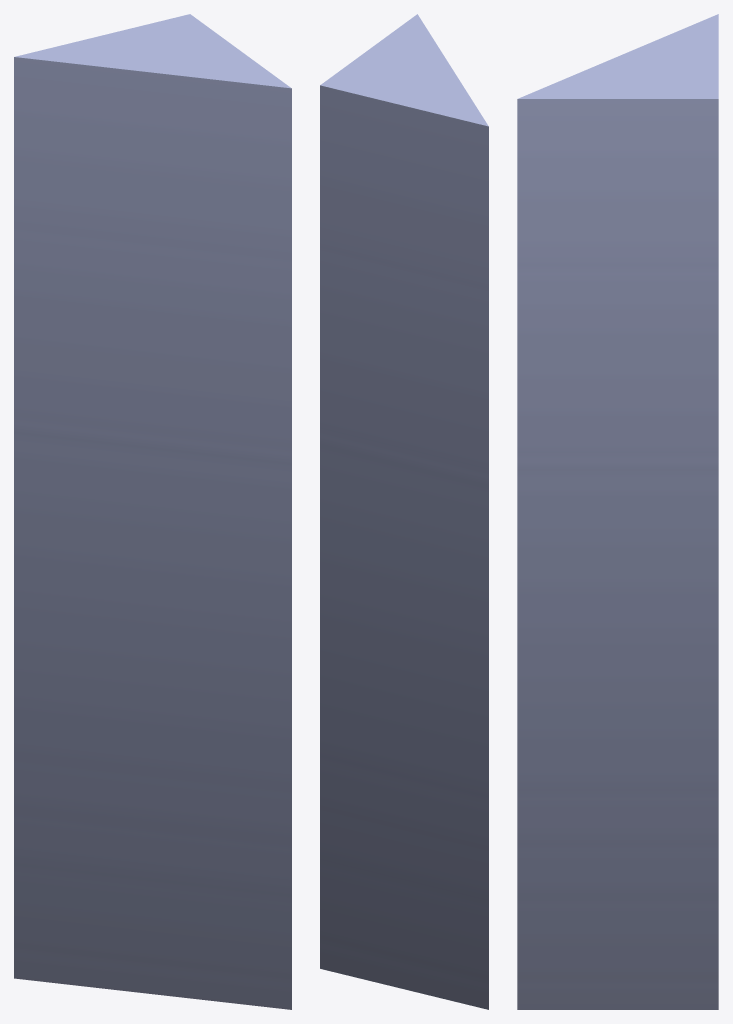
The model's file is column-triangle.fbx.
3 views of the same model, side by side, from view 1: azimuth 30°, elevation 25°; view 2: azimuth 150°, elevation 25°; view 3: azimuth 270°, elevation 25° (orthographic). The views are drawn at different scales.
Parts seen in each view (by area): view 1: column-triangle; view 2: column-triangle; view 3: column-triangle.
Part boxes in pixels (box(x1,y1,x2,y2)): column-triangle: box(14, 14, 291, 1009); column-triangle: box(320, 14, 488, 1009); column-triangle: box(517, 14, 718, 1009).
Size of the model in its own units: 20 by 100 by 20.
